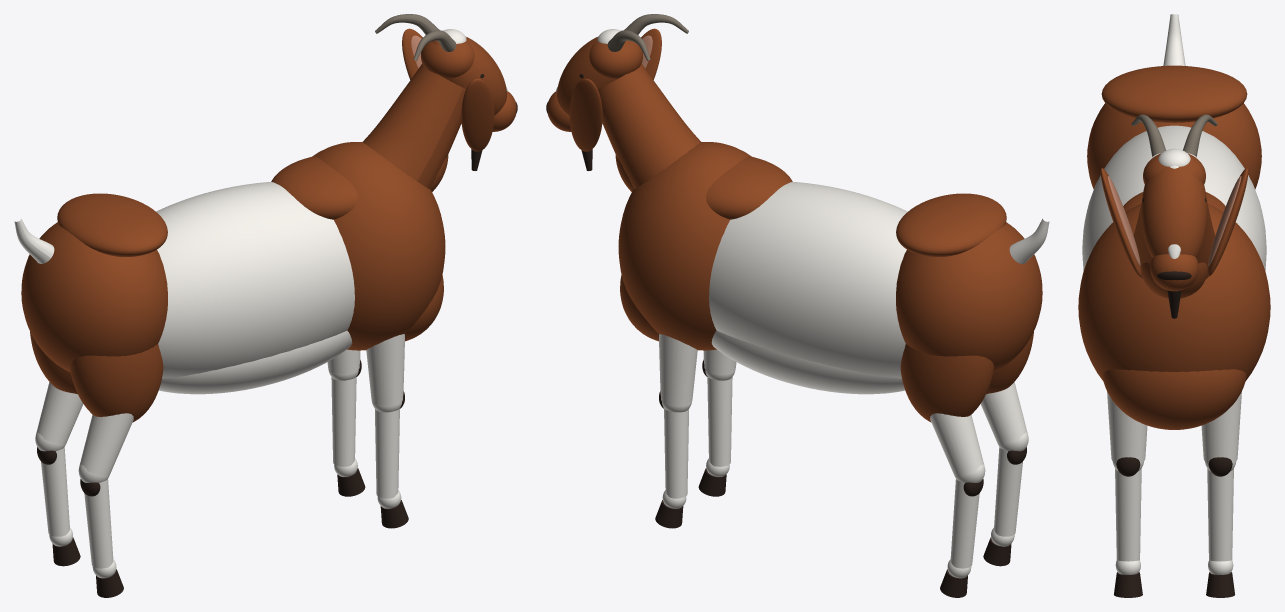
File: kambing.glb
3 renders of one model, left to right at view 1: azimuth 30°, elevation 25°; view 2: azimuth 150°, elevation 25°; view 3: azimuth 270°, elevation 25°, orthographic. The views are drawn at different scales.
Visible parts, largest first — view 1: barrel, forequarter_brown, rump_brown, neck, hip_bone, thigh_R, belly, withers, foreleg_upper_R, gaskin_R, fore_cannon_L, fore_cannon_R (+9 smaller); view 2: barrel, forequarter_brown, rump_brown, neck, hip_bone, thigh_L, belly, withers, foreleg_upper_L, gaskin_L, fore_cannon_R, fore_cannon_L (+9 smaller); view 3: forequarter_brown, barrel, chest_brisket, hip_bone, head, rump_brown, fore_cannon_L, fore_cannon_R, foreleg_upper_L, foreleg_upper_R, muzzle, neck (+19 smaller).
Part boxes in pixels (left/top/right/bottom): barrel: left=156, top=182, right=354, bottom=378; forequarter_brown: left=312, top=142, right=445, bottom=350; rump_brown: left=21, top=222, right=167, bottom=372; neck: left=362, top=63, right=466, bottom=188; hip_bone: left=57, top=193, right=167, bottom=256; thigh_R: left=69, top=344, right=163, bottom=422; belly: left=158, top=330, right=352, bottom=394; withers: left=271, top=156, right=357, bottom=219; foreleg_upper_R: left=366, top=334, right=404, bottom=405; gaskin_R: left=79, top=413, right=133, bottom=476; fore_cannon_L: left=331, top=377, right=356, bottom=466; fore_cannon_R: left=375, top=408, right=399, bottom=498; barrel: left=709, top=182, right=907, bottom=378; forequarter_brown: left=618, top=142, right=751, bottom=350; rump_brown: left=896, top=222, right=1042, bottom=372; neck: left=597, top=63, right=701, bottom=188; hip_bone: left=896, top=193, right=1006, bottom=256; thigh_L: left=900, top=344, right=994, bottom=422; belly: left=711, top=330, right=905, bottom=394; withers: left=706, top=156, right=792, bottom=219; foreleg_upper_L: left=659, top=334, right=697, bottom=405; gaskin_L: left=930, top=413, right=984, bottom=476; fore_cannon_R: left=707, top=377, right=732, bottom=466; fore_cannon_L: left=664, top=408, right=688, bottom=498; forequarter_brown: left=1078, top=204, right=1270, bottom=381; barrel: left=1082, top=125, right=1266, bottom=270; chest_brisket: left=1102, top=369, right=1246, bottom=429; hip_bone: left=1101, top=65, right=1247, bottom=122; head: left=1141, top=166, right=1207, bottom=257; rump_brown: left=1087, top=103, right=1261, bottom=189; fore_cannon_L: left=1207, top=468, right=1233, bottom=561; fore_cannon_R: left=1115, top=468, right=1141, bottom=561; foreleg_upper_L: left=1201, top=391, right=1241, bottom=463; foreleg_upper_R: left=1107, top=391, right=1147, bottom=463; muzzle: left=1150, top=254, right=1198, bottom=291; neck: left=1133, top=202, right=1215, bottom=278.
Bounding box in the file's own units: 1.26 × 1.14 × 0.396.
